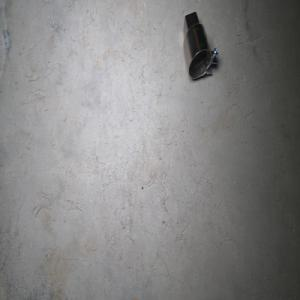MetalPart: (182, 11, 218, 79)
